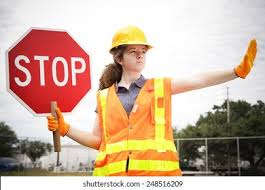stop sign: (6, 26, 92, 115)
